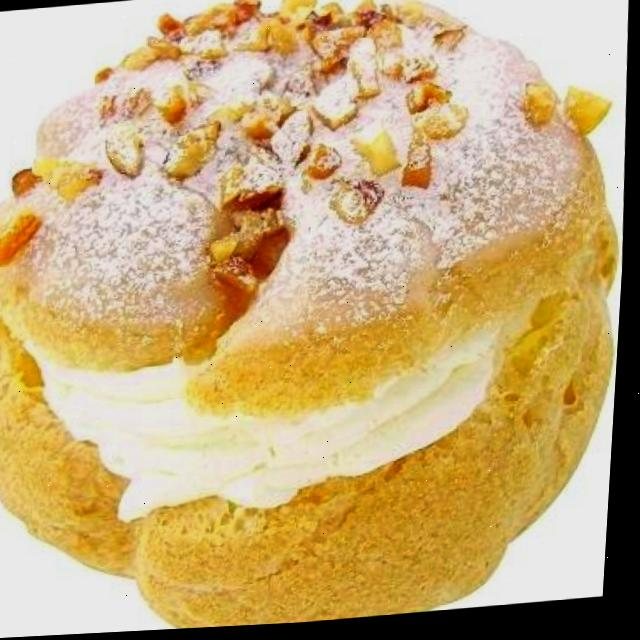炸货点心: (0, 0, 611, 640)
蛋糕甜品: (0, 0, 611, 640)
